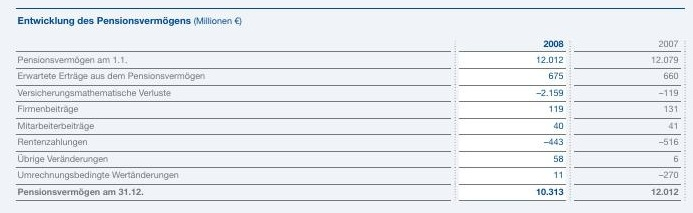table: (0, 0, 693, 213)
